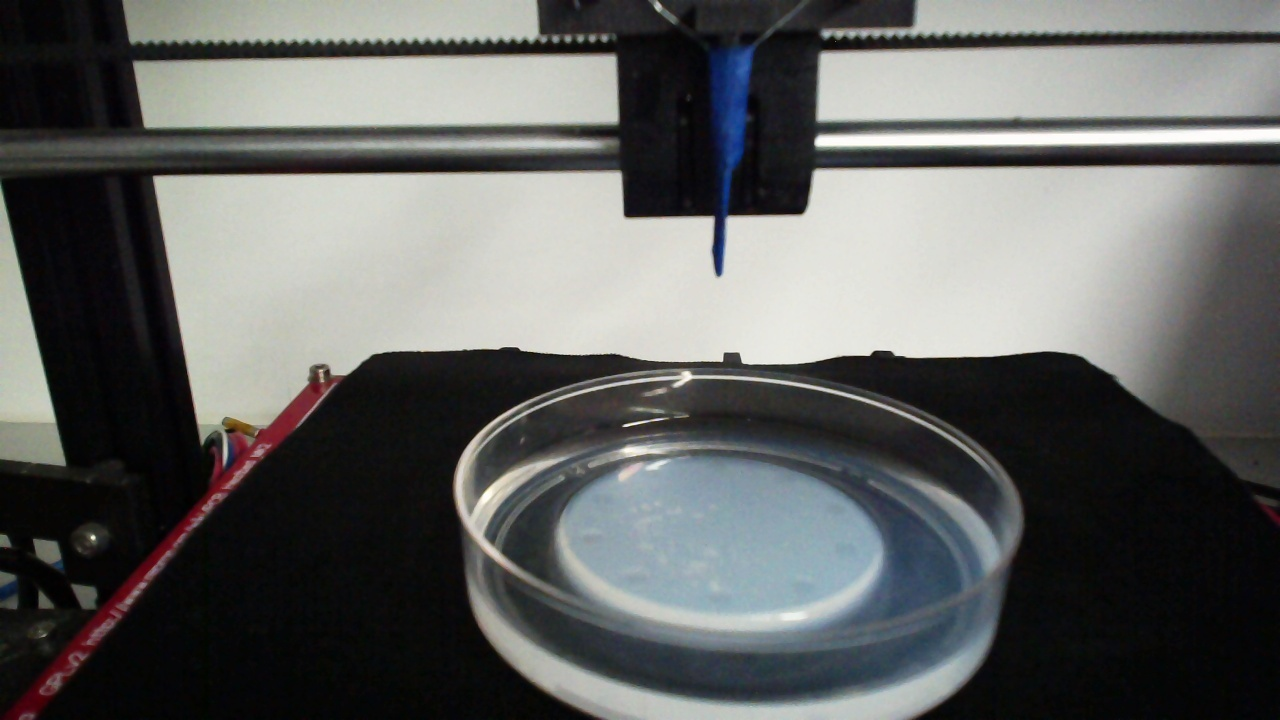groove: (832, 538, 861, 560), (788, 577, 817, 597), (579, 529, 606, 550), (771, 469, 798, 489), (706, 588, 734, 607), (591, 488, 617, 508), (822, 500, 850, 518), (625, 569, 649, 587)
needle: (712, 50, 750, 278)
